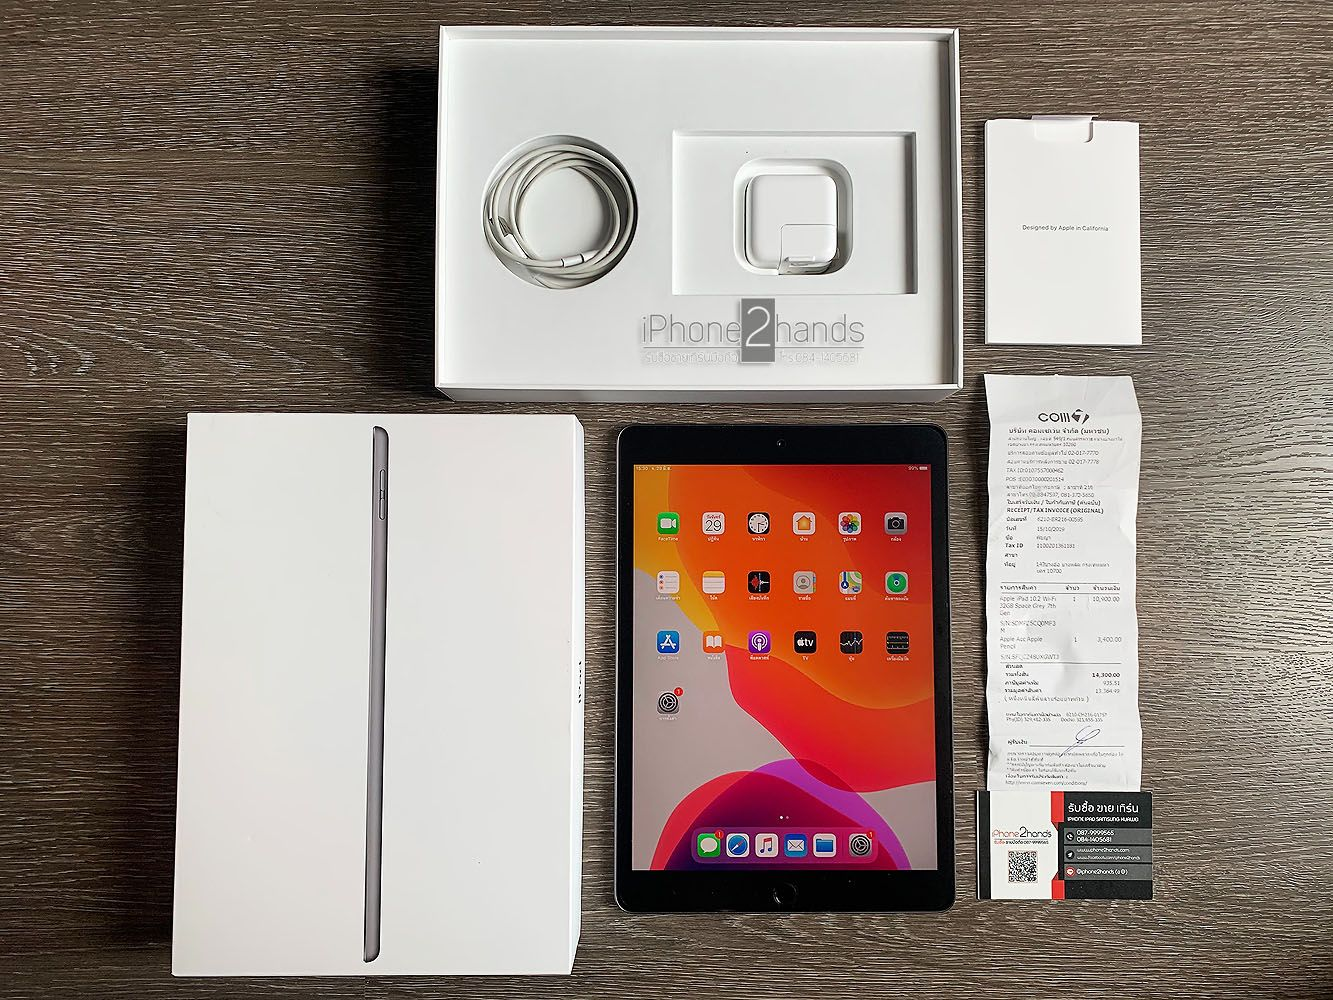phone: (607, 415, 962, 928)
